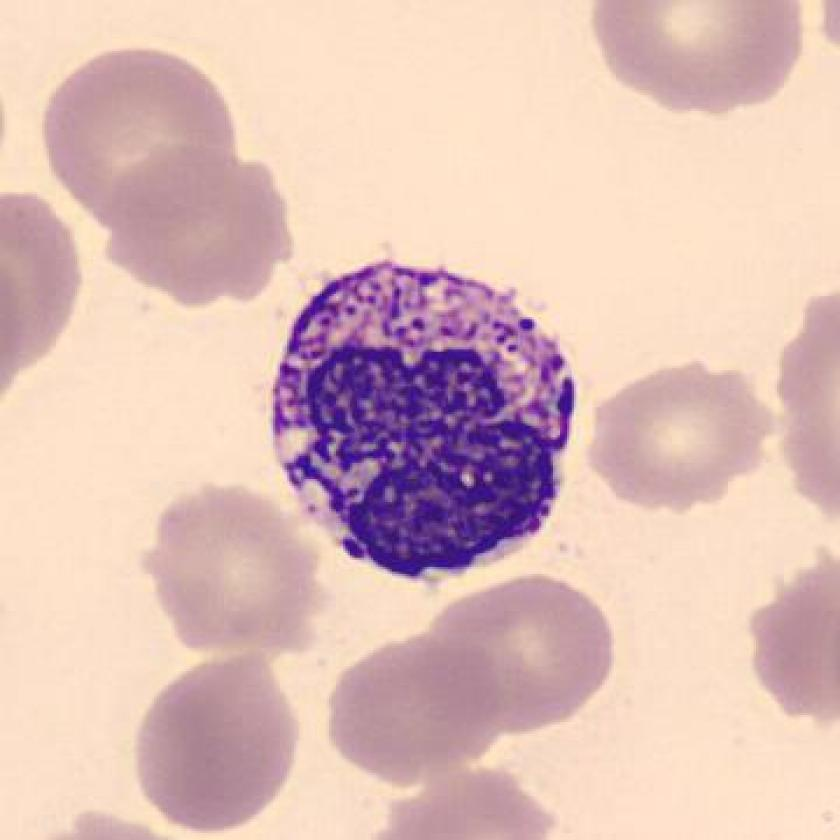basophil: (269, 239, 589, 591)
